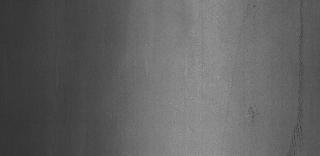water spot: (286, 3, 312, 155), (244, 102, 264, 132)
